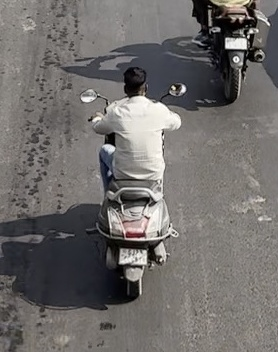BikeWithRider: (77, 64, 189, 299)
NoHelmet: (121, 65, 151, 99)
